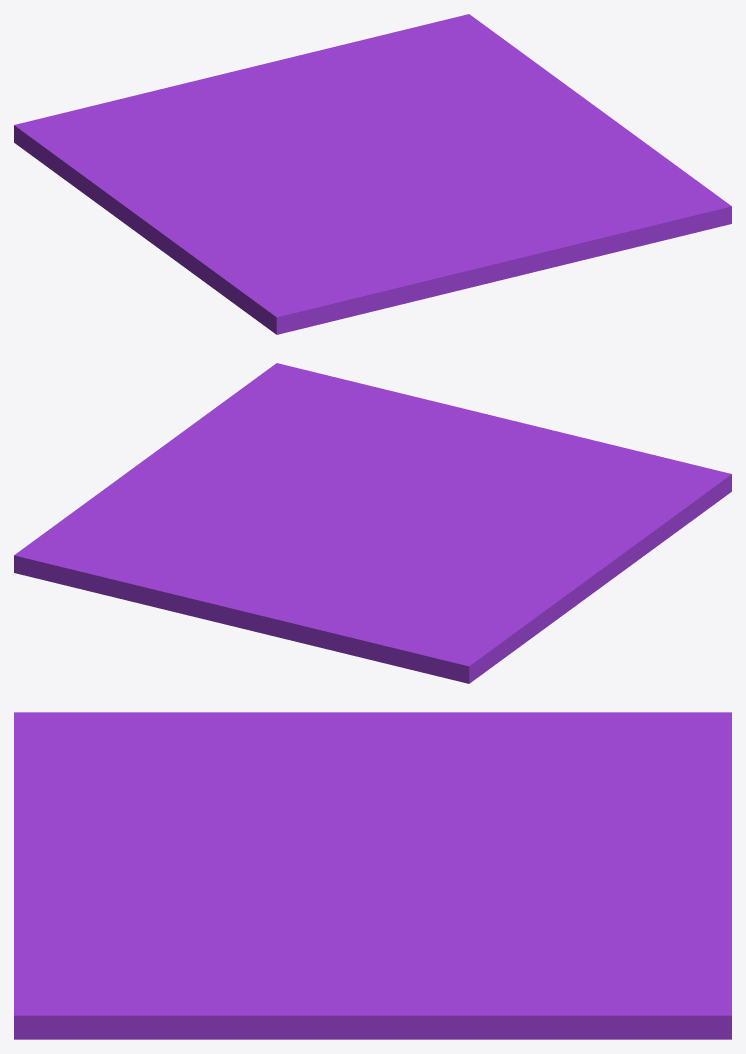
Rendered from Platform_36_chunks.fbx.
The picture shows the model from 3 angles, top to bottom: view 1: azimuth 30°, elevation 25°; view 2: azimuth 150°, elevation 25°; view 3: azimuth 270°, elevation 25°; orthographic projection. The views are drawn at different scales.
Parts seen in each view (by area): view 1: Platform_36_10, Platform_36_15, Platform_36_1, Platform_36_12, Platform_36_0, Platform_36_8, Platform_36_11, Platform_36_14, Platform_36_3, Platform_36_2, Platform_36_9; view 2: Platform_36_15, Platform_36_12, Platform_36_10, Platform_36_0, Platform_36_11, Platform_36_1, Platform_36_14, Platform_36_3, Platform_36_8, Platform_36_2, Platform_36_7, Platform_36_6 (+1 smaller); view 3: Platform_36_10, Platform_36_11, Platform_36_15, Platform_36_12, Platform_36_1, Platform_36_14, Platform_36_3, Platform_36_8, Platform_36_0, Platform_36_2, Platform_36_9, Platform_36_6.
Boxes of the visible parts, x1,y1,x2,y2 form: Platform_36_10: (518,111,731,259); Platform_36_15: (264,14,499,118); Platform_36_1: (292,167,515,294); Platform_36_12: (14,64,284,169); Platform_36_0: (62,163,312,251); Platform_36_8: (400,152,595,276); Platform_36_11: (397,37,601,152); Platform_36_14: (125,100,423,167); Platform_36_3: (165,211,435,289); Platform_36_2: (163,242,442,334); Platform_36_9: (377,147,456,183); Platform_36_15: (14,520,283,614); Platform_36_12: (219,579,520,676); Platform_36_10: (147,363,412,468); Platform_36_0: (406,521,622,646); Platform_36_11: (46,458,321,532); Platform_36_1: (376,416,572,535); Platform_36_14: (251,512,493,606); Platform_36_3: (506,435,678,558); Platform_36_8: (273,396,492,495); Platform_36_2: (619,446,731,573); Platform_36_7: (190,607,497,683); Platform_36_6: (14,564,190,613); Platform_36_10: (14,925,375,1039); Platform_36_11: (311,889,655,1039); Platform_36_15: (471,864,731,1027); Platform_36_12: (548,712,731,878); Platform_36_1: (14,792,409,871); Platform_36_14: (364,741,614,921); Platform_36_3: (14,712,318,818); Platform_36_8: (14,865,352,945); Platform_36_0: (302,712,589,832); Platform_36_2: (14,712,157,787); Platform_36_9: (304,864,409,915); Platform_36_6: (646,1027,731,1039).
Size of the model in its own units: 810 by 29.87 by 810.
